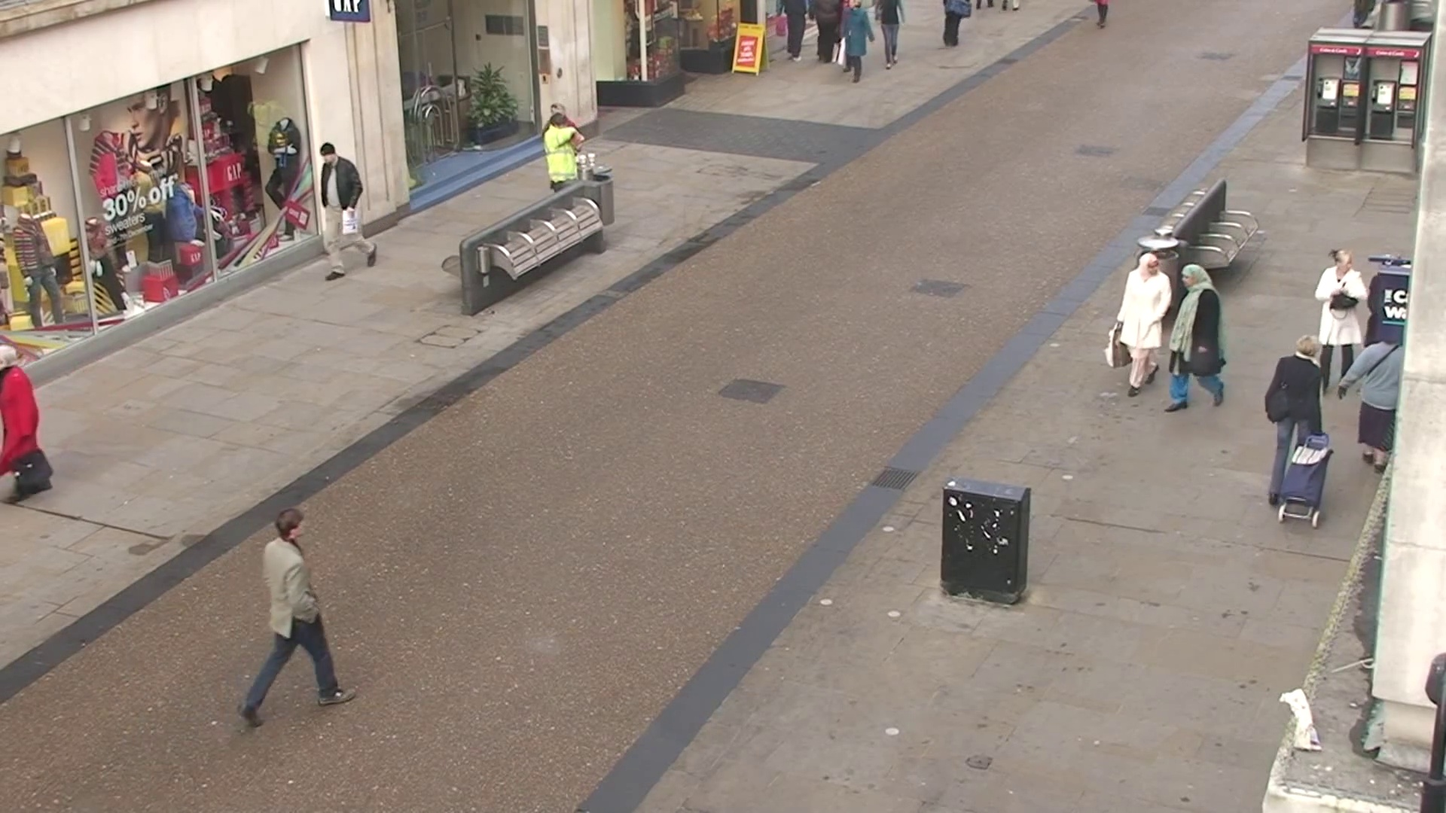person: (238, 510, 355, 723), (1264, 339, 1332, 496), (1165, 257, 1225, 412), (1115, 248, 1178, 395), (1313, 248, 1371, 397), (0, 334, 50, 501), (313, 140, 371, 272), (542, 105, 584, 190), (837, 1, 873, 84), (875, 0, 906, 68), (941, 0, 969, 48)
